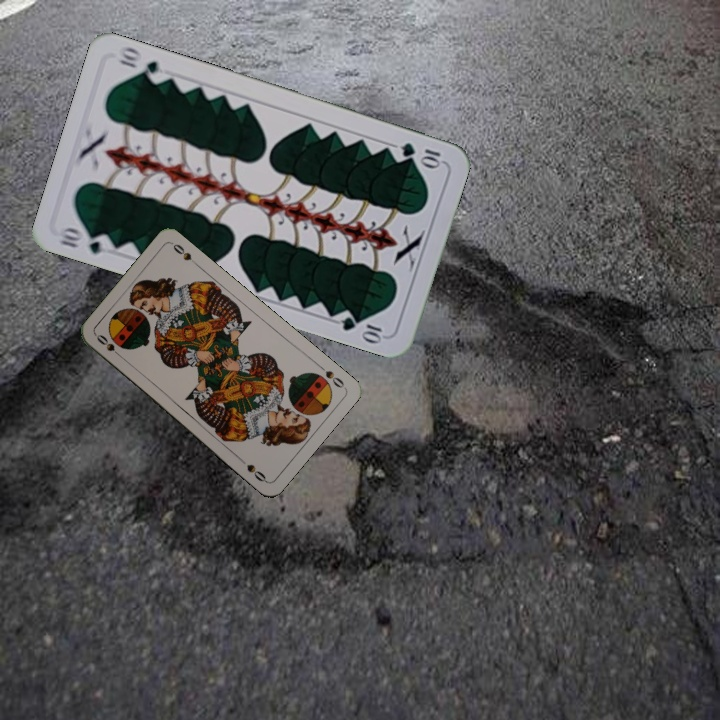G10: (56, 223, 116, 257), (396, 138, 445, 170)
SO: (92, 330, 126, 361), (314, 360, 347, 391)
